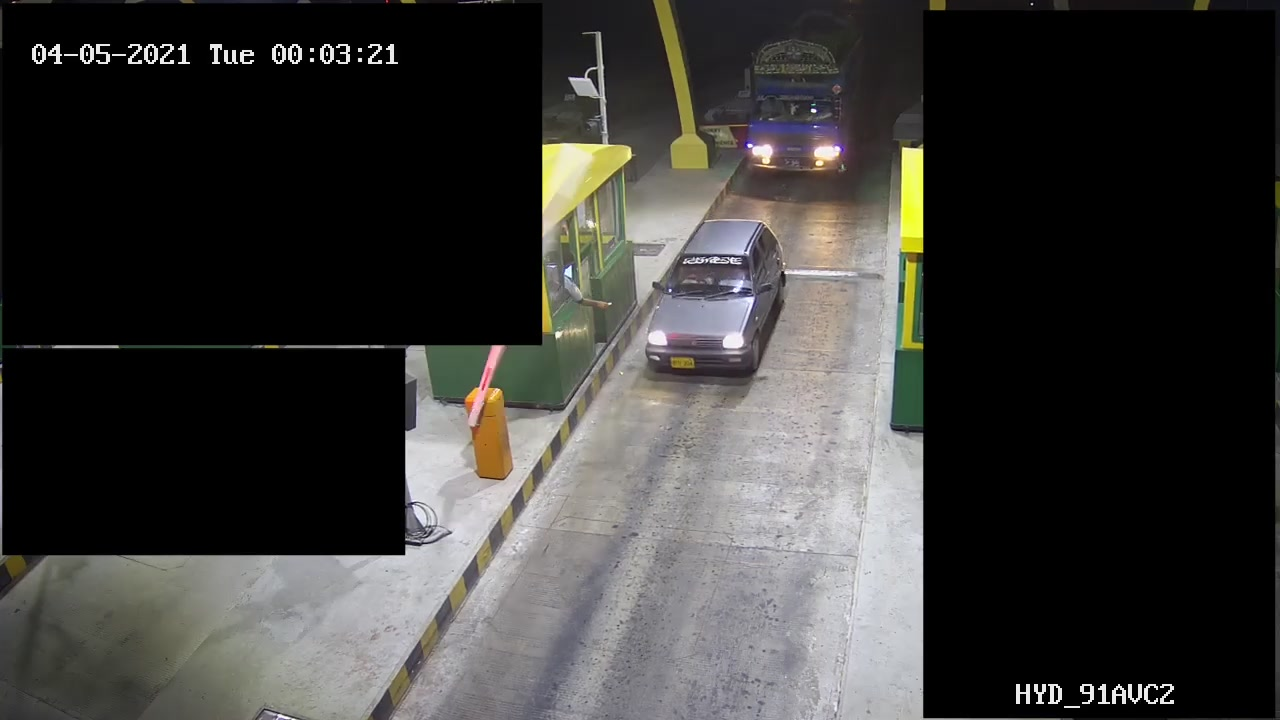F1: (638, 205, 799, 397)
